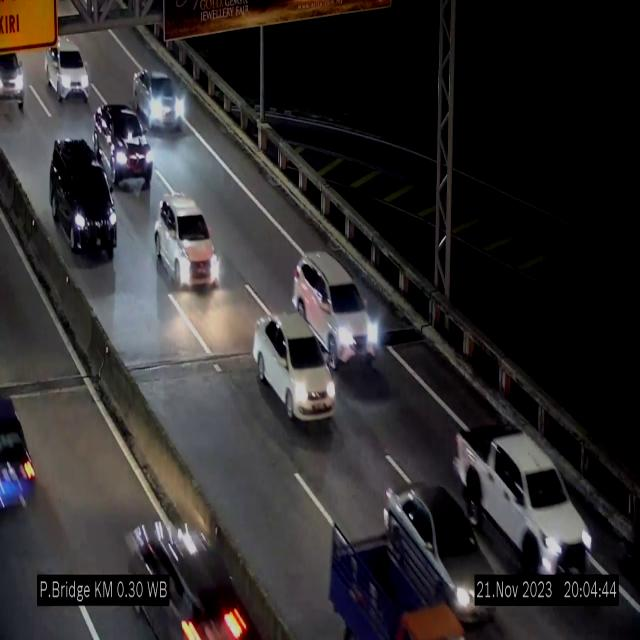Car: (453, 431, 590, 573), (121, 502, 251, 640), (383, 484, 498, 620), (292, 252, 378, 368), (254, 315, 336, 424), (49, 136, 120, 259), (155, 194, 219, 287), (93, 100, 155, 191), (0, 388, 37, 535), (134, 70, 186, 130), (46, 38, 89, 102), (0, 42, 28, 114)
Truck: (310, 514, 470, 640)
